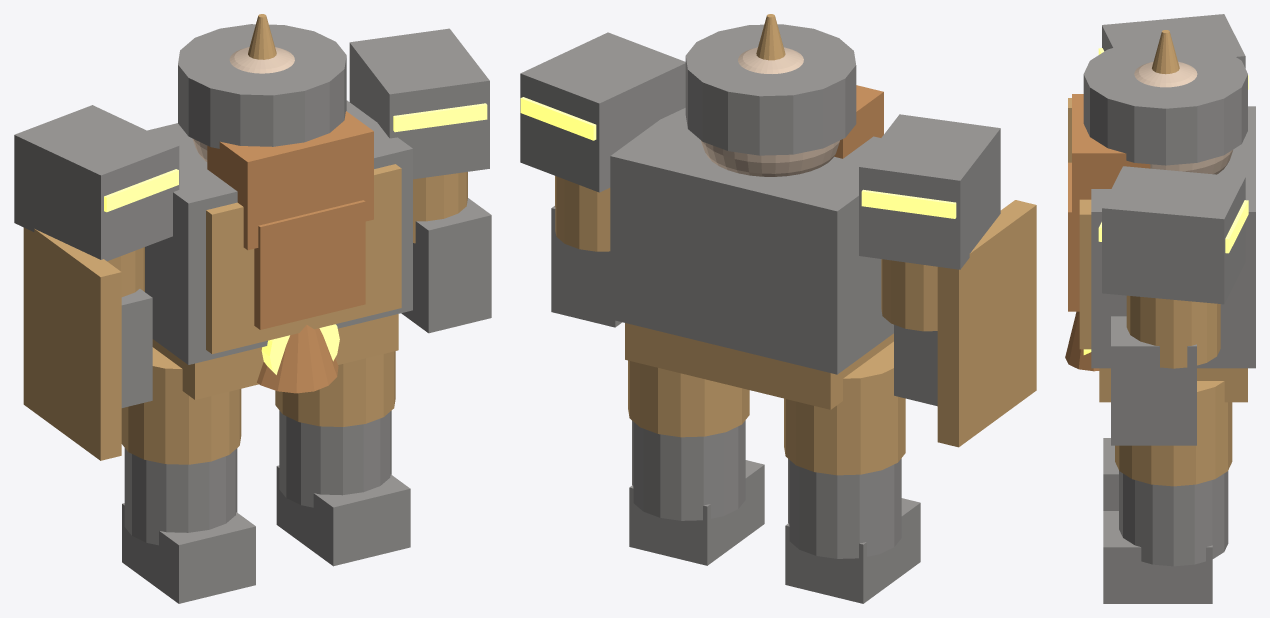
The model's file is dwarf_champion_full.glb.
3 views of the same model, side by side, from view 1: azimuth 30°, elevation 25°; view 2: azimuth 150°, elevation 25°; view 3: azimuth 270°, elevation 25° (orthographic). The views are drawn at different scales.
Visible parts, largest first — view 1: DwarfChampionFull; view 2: DwarfChampionFull; view 3: DwarfChampionFull.
Boxes of the visible parts, x1=… form: DwarfChampionFull: x1=14, y1=14, x2=491, y2=603; DwarfChampionFull: x1=520, y1=14, x2=1036, y2=603; DwarfChampionFull: x1=1065, y1=14, x2=1255, y2=603.
Bounding box in the file's own units: 1.24 × 1.46 × 0.4873.
